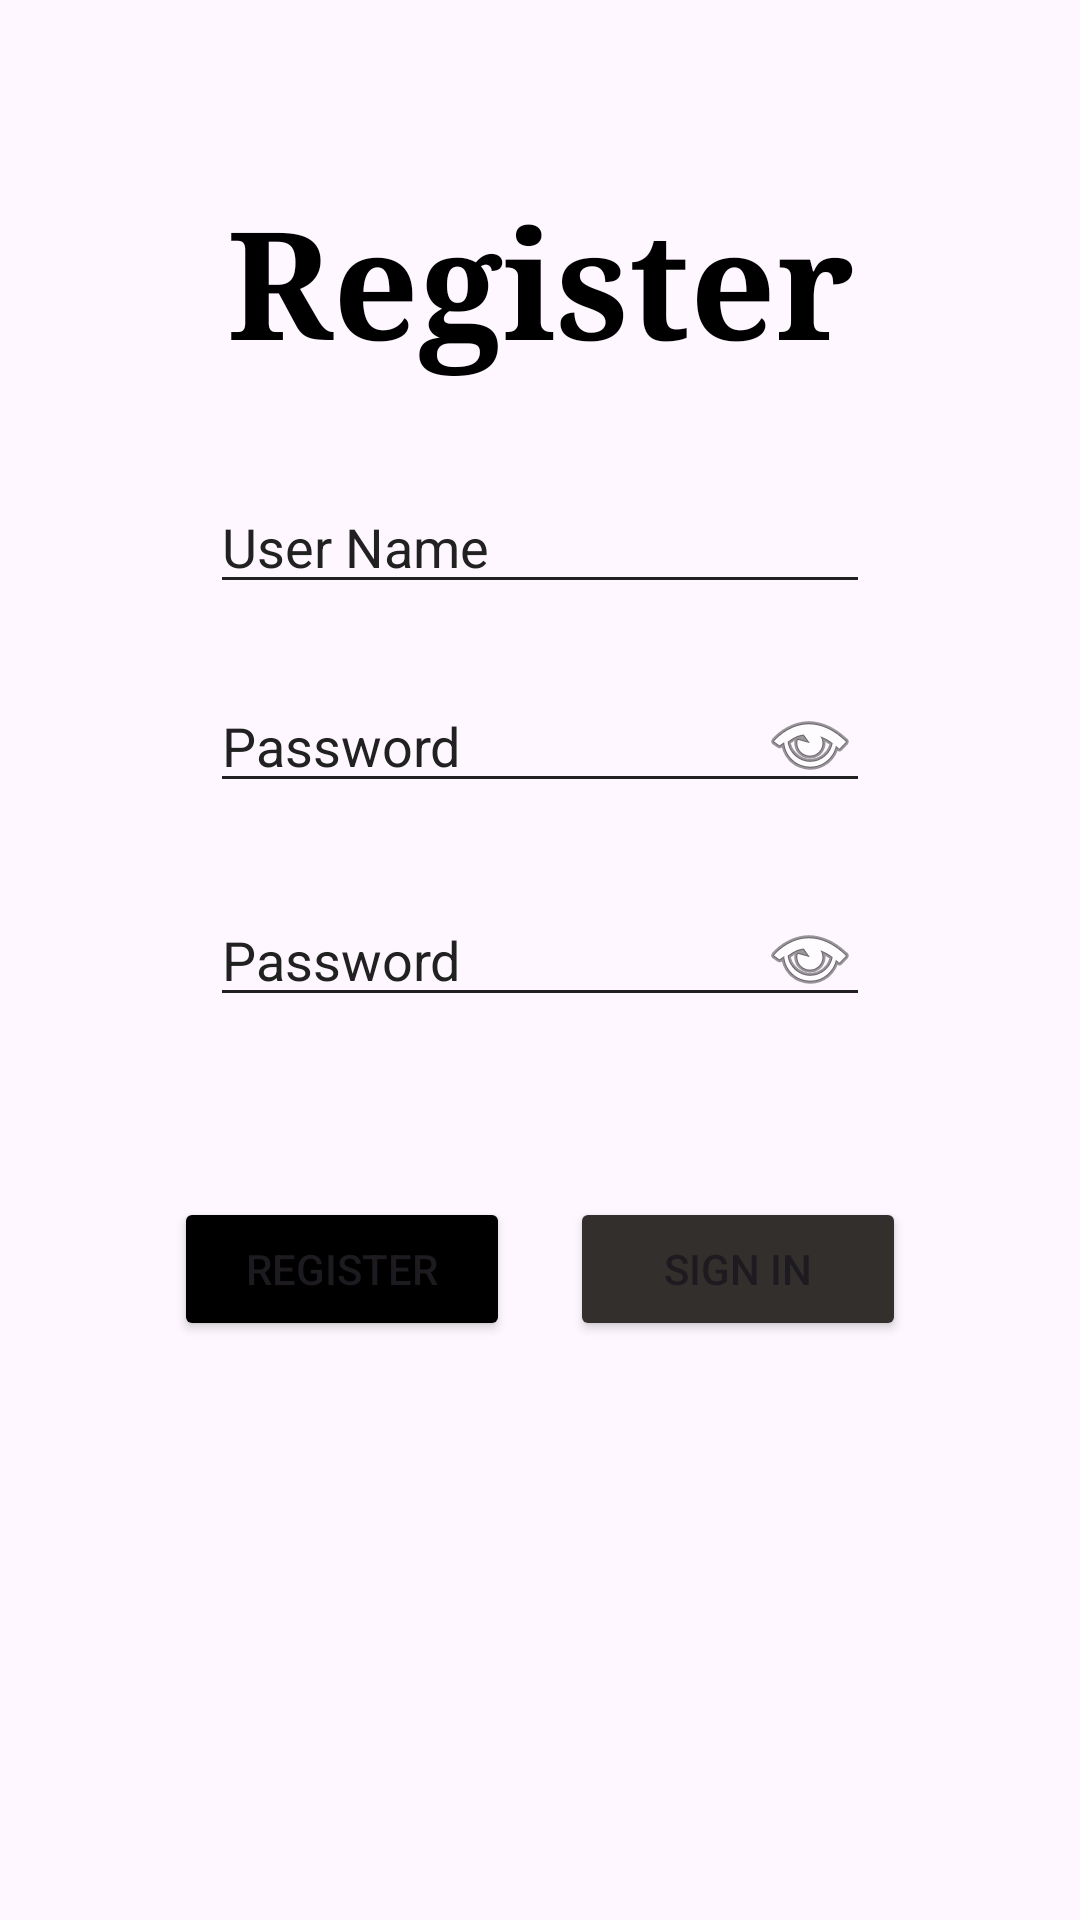

Screen size 1080px×1920px. Icon name, then its center in pixels as [x,y]:
view: [810,745], [810,959]
